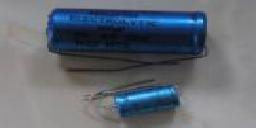Electrolytic-capacitor: (41, 4, 215, 69), (77, 77, 185, 119)
